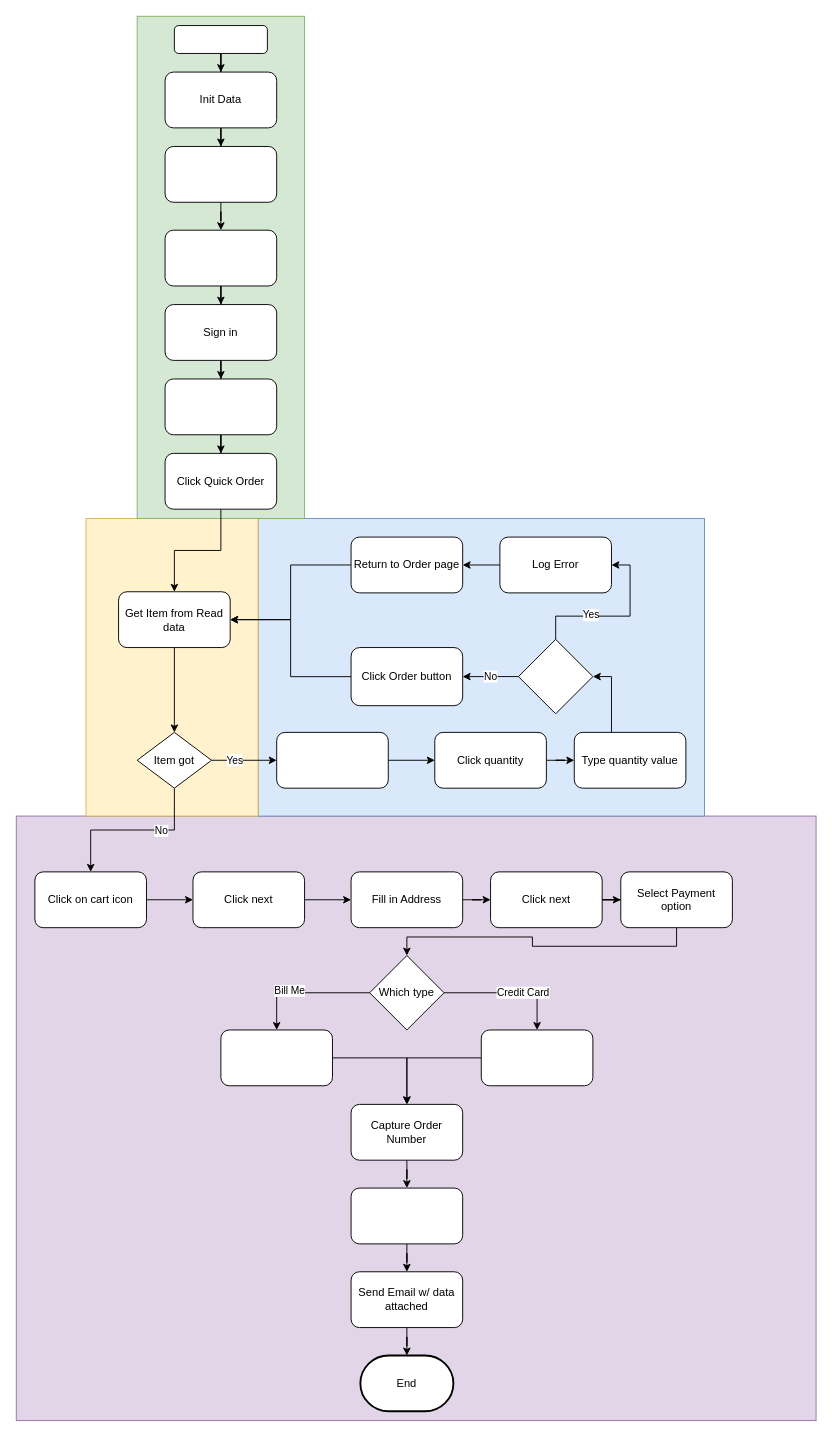
Image size: 832x1437. Some labels were removed from this diagram. The shapes that lost their labels are listed below. From the top down, each one's centre as x and y in pixels, then its label:
point (220, 39): Start
point (220, 174): Open Browser
point (220, 257): Navigate to openspan site
point (220, 406): Hover over order tab
point (555, 676): Is error (404)
point (332, 759): Find Item in list
point (276, 1057): Put in "Purchase Order Number" Value
point (536, 1057): Fill in Card information
point (406, 1215): Write to Data Sheet w/ Order #, Product Names
